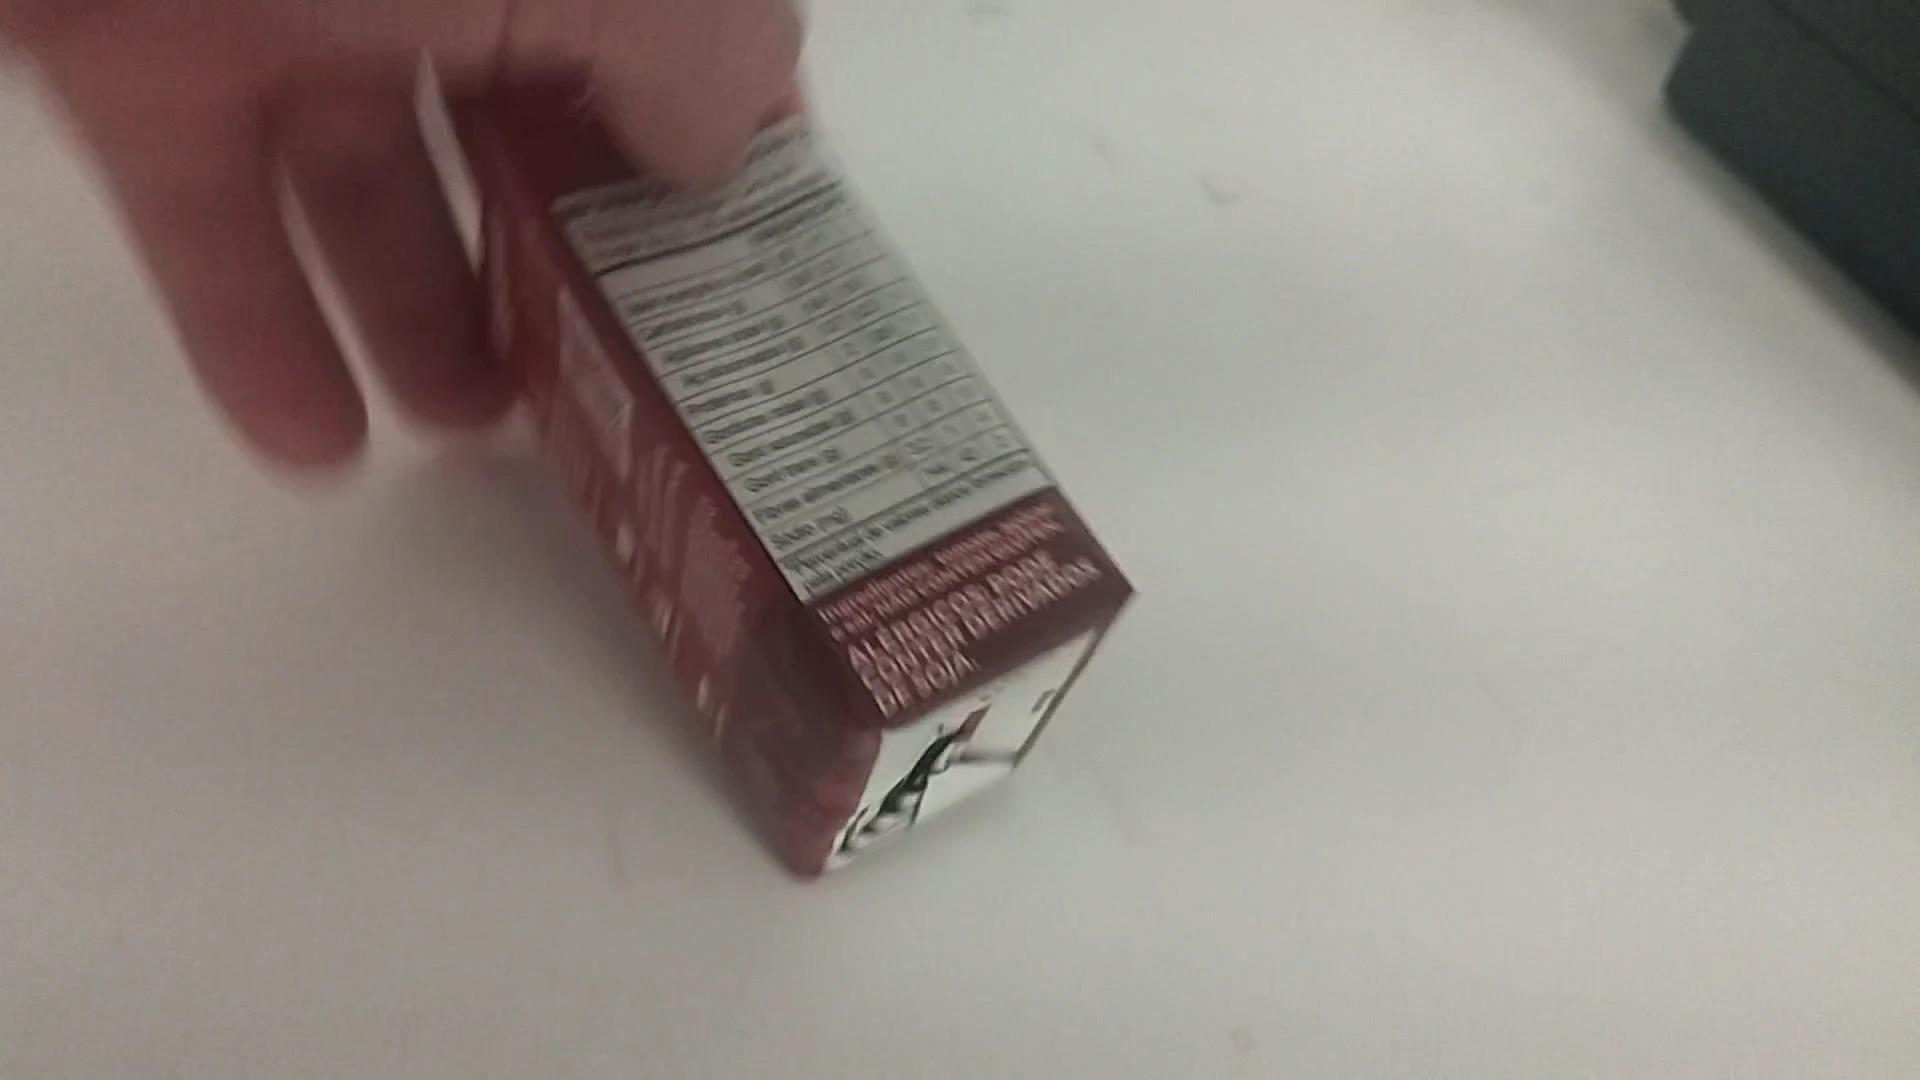tomate: (443, 34, 1127, 882)
